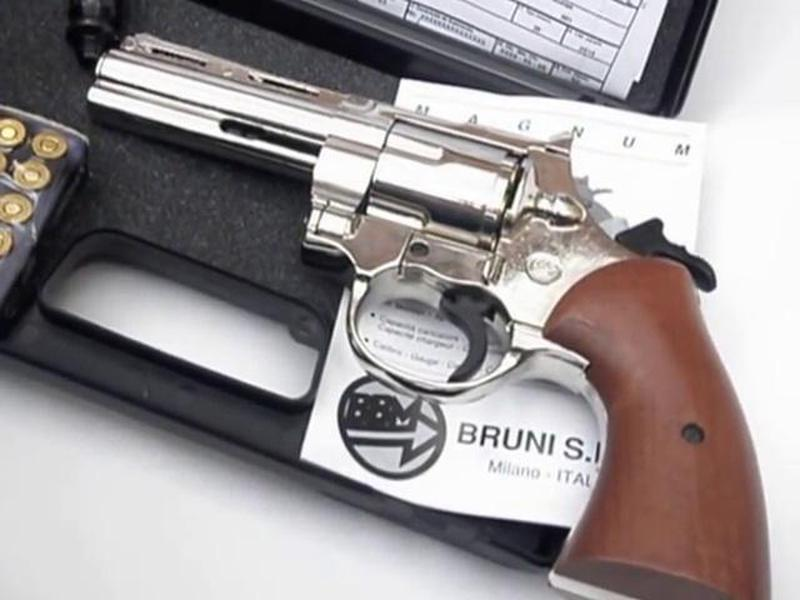Revolver: (73, 25, 756, 430)
